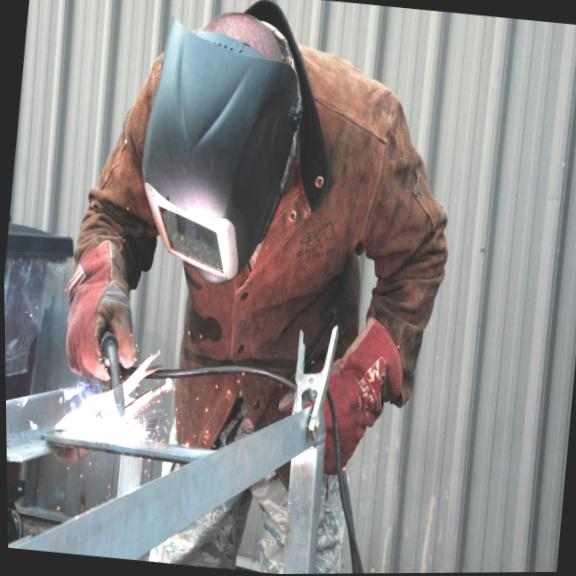no_safety_vest: (147, 38, 432, 423)
